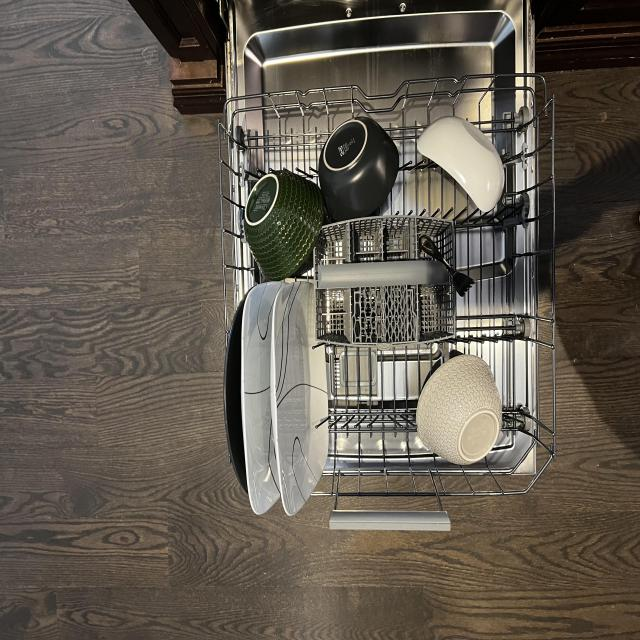Bowl: (414, 350, 502, 465), (316, 109, 401, 223), (415, 112, 507, 215), (244, 166, 323, 279)
Fork: (418, 230, 477, 296)
Plate: (269, 277, 332, 519)
